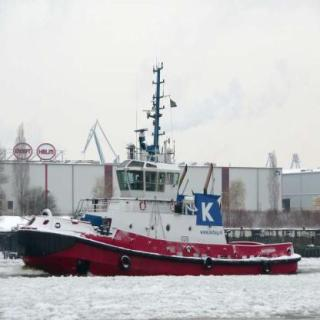Tug Boat: (11, 154, 302, 274)
